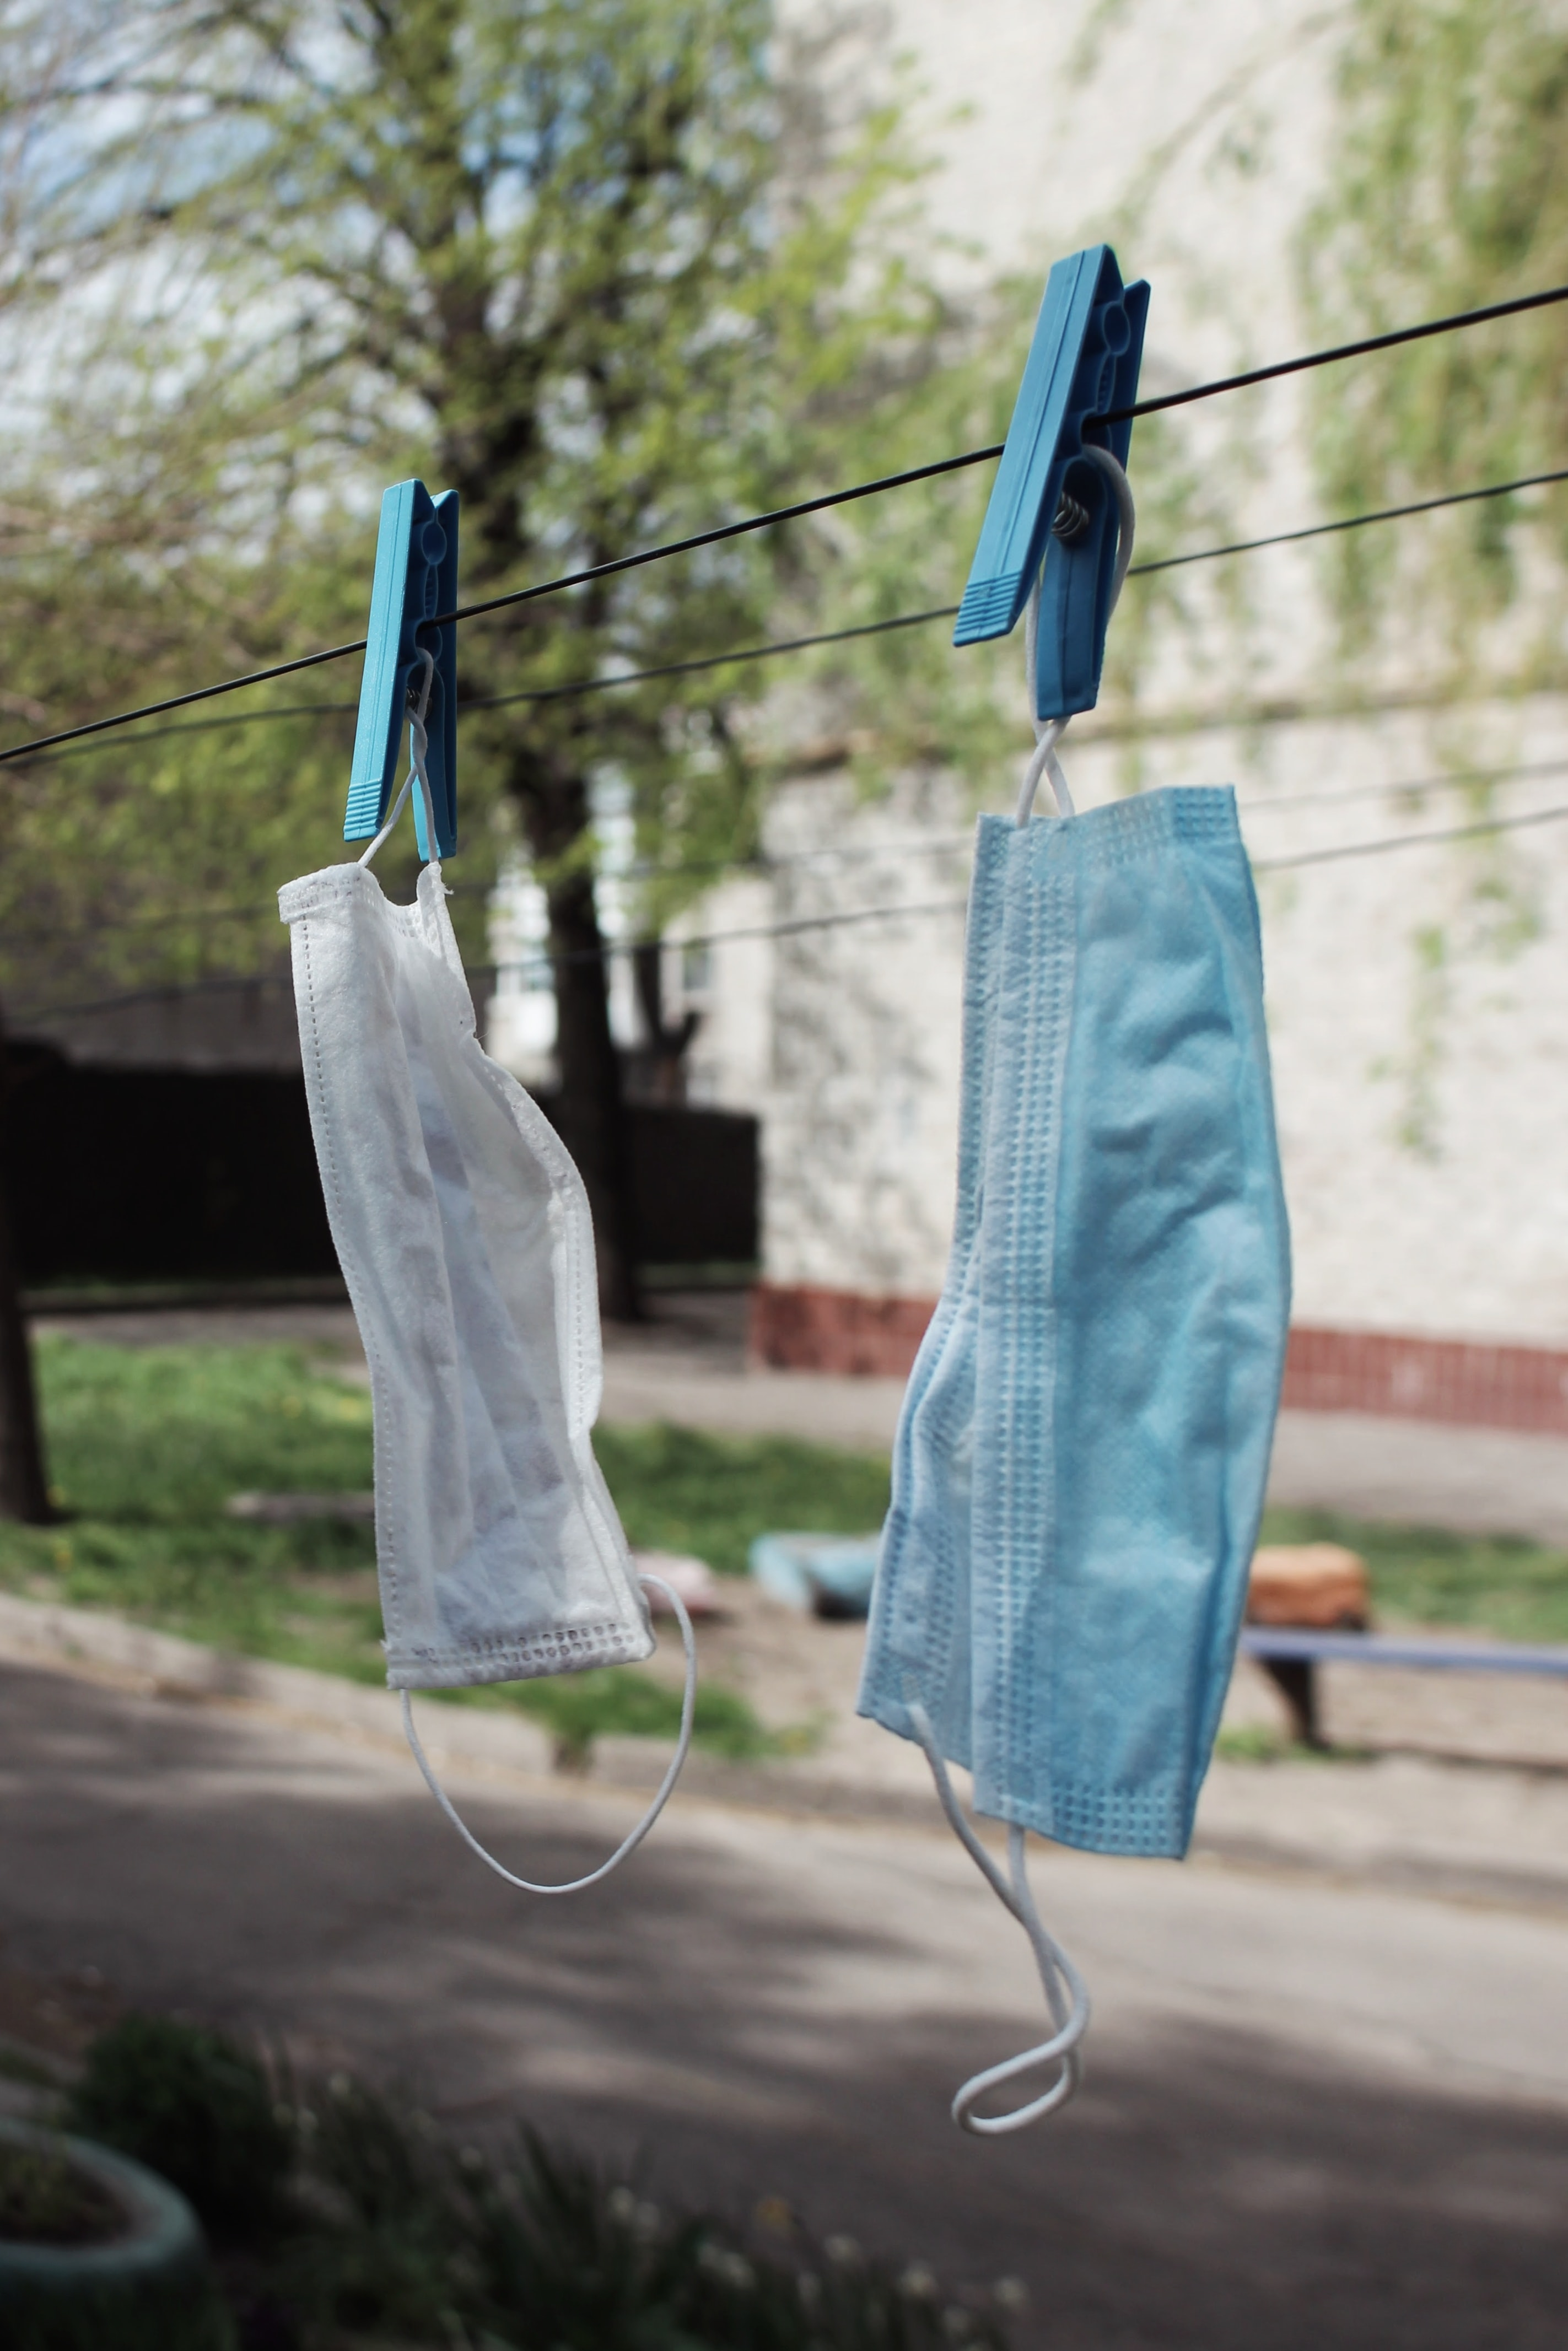mask: (828, 682, 1341, 2167), (214, 747, 740, 1896)
